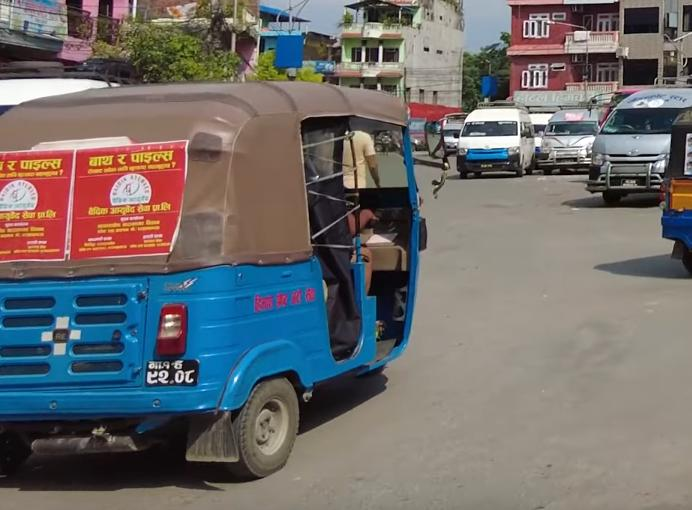auto_rickshaw: (3, 77, 428, 485)
micro_bus: (583, 81, 692, 202), (451, 102, 538, 179), (534, 102, 602, 172)
